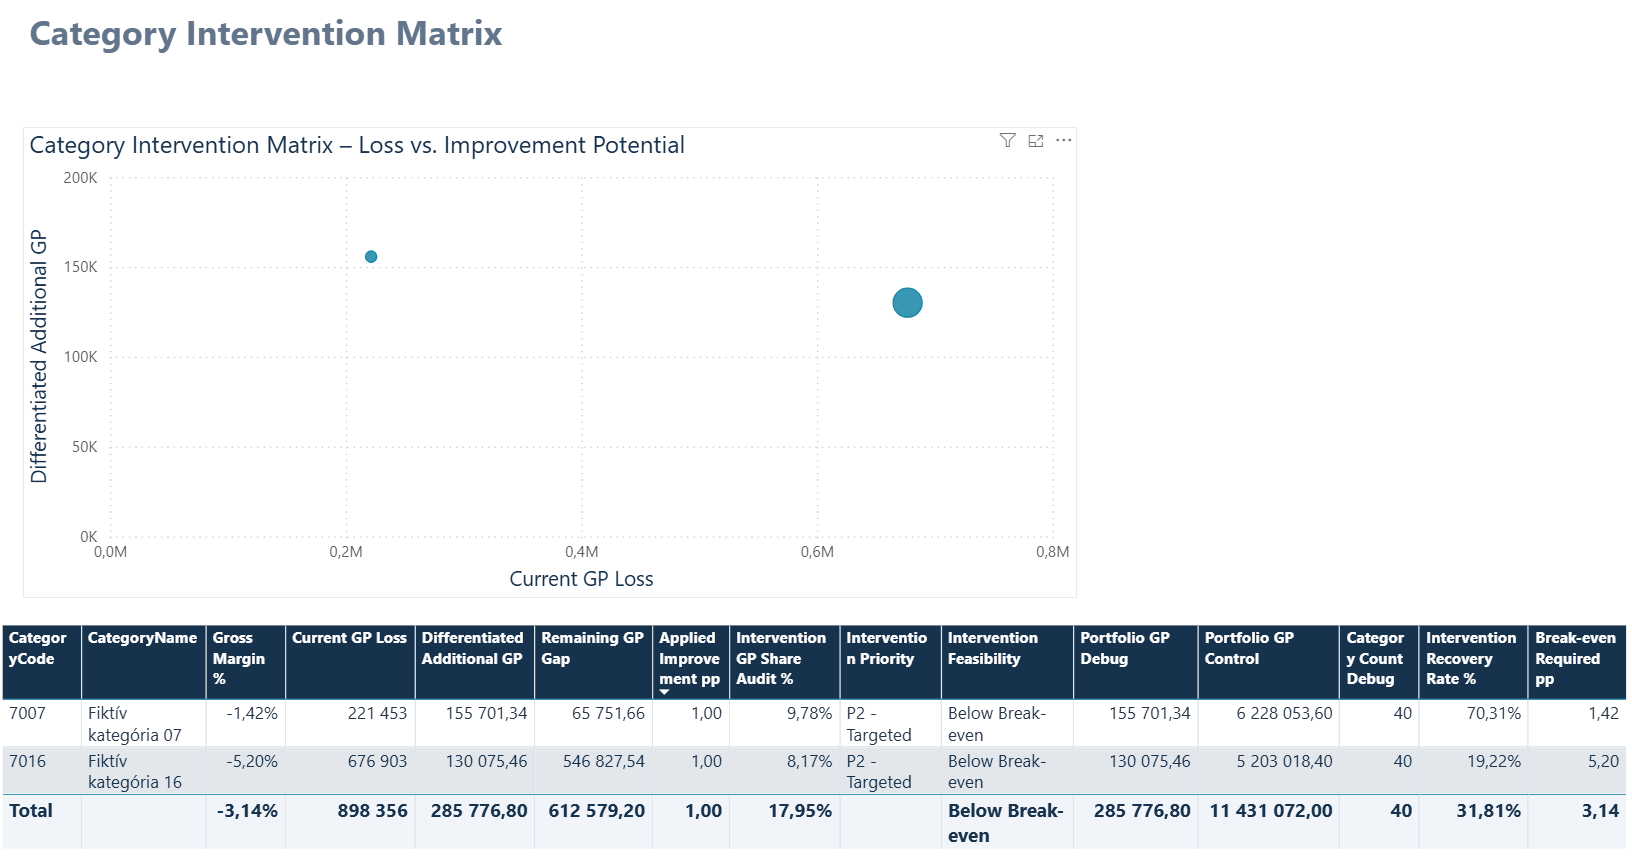

This screenshot's page, from the dashboard's own definition file:
{"tool":"powerbi","page":{"name":"Category Intervention Matrix","canvas":[1280,720],"ordinal":1},"visuals":[{"type":"scatterChart","title":"Category Intervention Matrix – Loss vs. Improvement Potential","fields":{"Category":["dim_category.CategoryName"],"Size":["Margin Improvement pp.Remaining GP Gap"],"X":["Margin Improvement pp.Current GP Loss"],"Y":["Margin Improvement pp.Differentiated Additional GP"]},"box":[22,0,821,367],"z":0},{"type":"tableEx","fields":{"Values":["dim_category.CategoryCode","fact_sales.CategoryName","fact_sales.Gross Margin %","Margin Improvement pp.Current GP Loss","Margin Improvement pp.Differentiated Additional GP","Margin Improvement pp.Remaining GP Gap","Margin Improvement pp.Applied Improvement pp","Margin Improvement pp.Intervention GP Share Audit %","Margin Improvement pp.Intervention Priority","Margin Improvement pp.Intervention Feasibility","Margin Improvement pp.Portfolio GP Debug","Margin Improvement pp.Portfolio GP Control"]},"box":[0,378.9,1280,206.7],"z":1000}]}

Visuals, with their boxes on the page's 1280x720 design canvas (x1, y1, x2, y2). These are canvas units, not pixel positions in the 1632x867 screenshot, which may show the page scaled, cropped or inside an application window:
"Category Intervention Matrix – Loss vs. Improvement Potential" scatterChart: x1=22, y1=0, x2=843, y2=367
tableEx - dim_category.CategoryCode x fact_sales.CategoryName: x1=0, y1=379, x2=1280, y2=586
